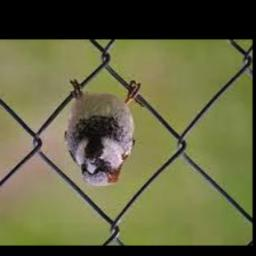Sparrow: (65, 91, 136, 187)
